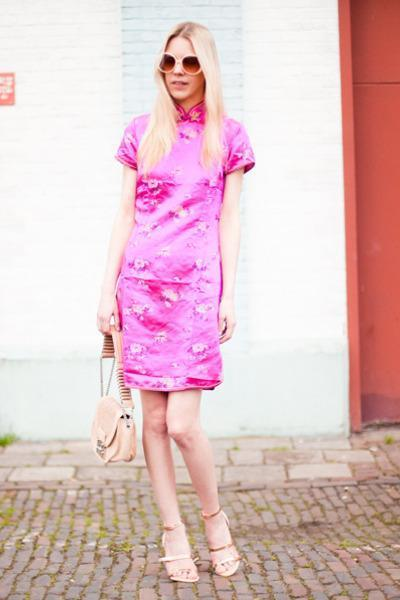bag: (92, 332, 125, 478)
dress: (115, 118, 254, 392)
sunglass: (183, 60, 205, 94)
